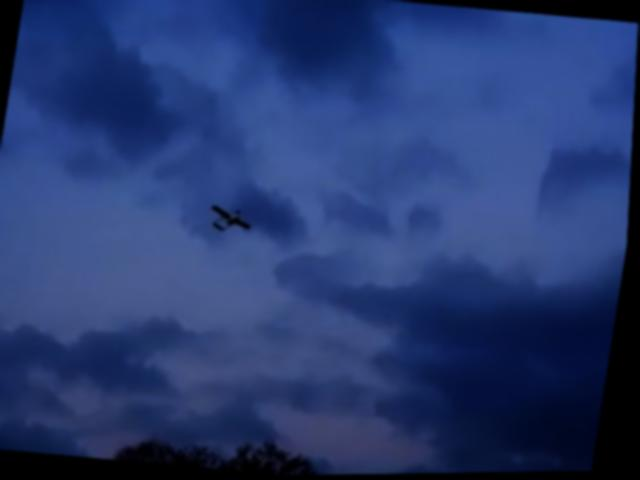uav: (209, 203, 255, 239)
